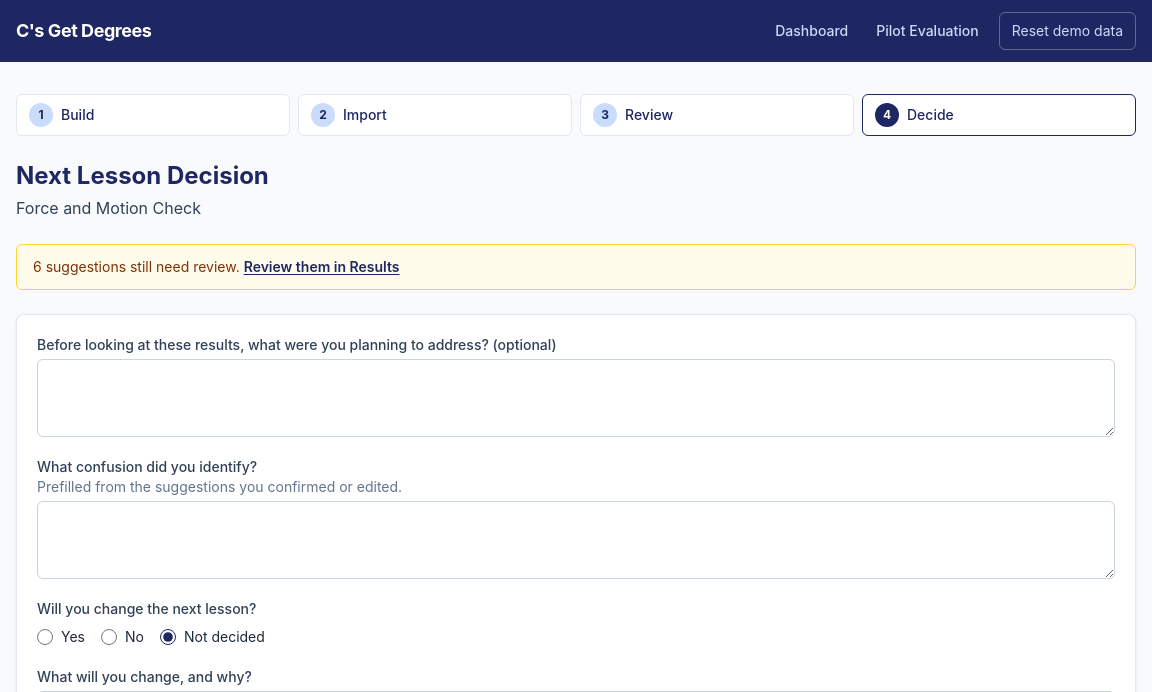
choosing Yes with blank justification shows the justification hint and "not counted" status
Click the radio button labelled "Yes". click: (45, 637)
box: [37,629,53,645]
(page scrolled)
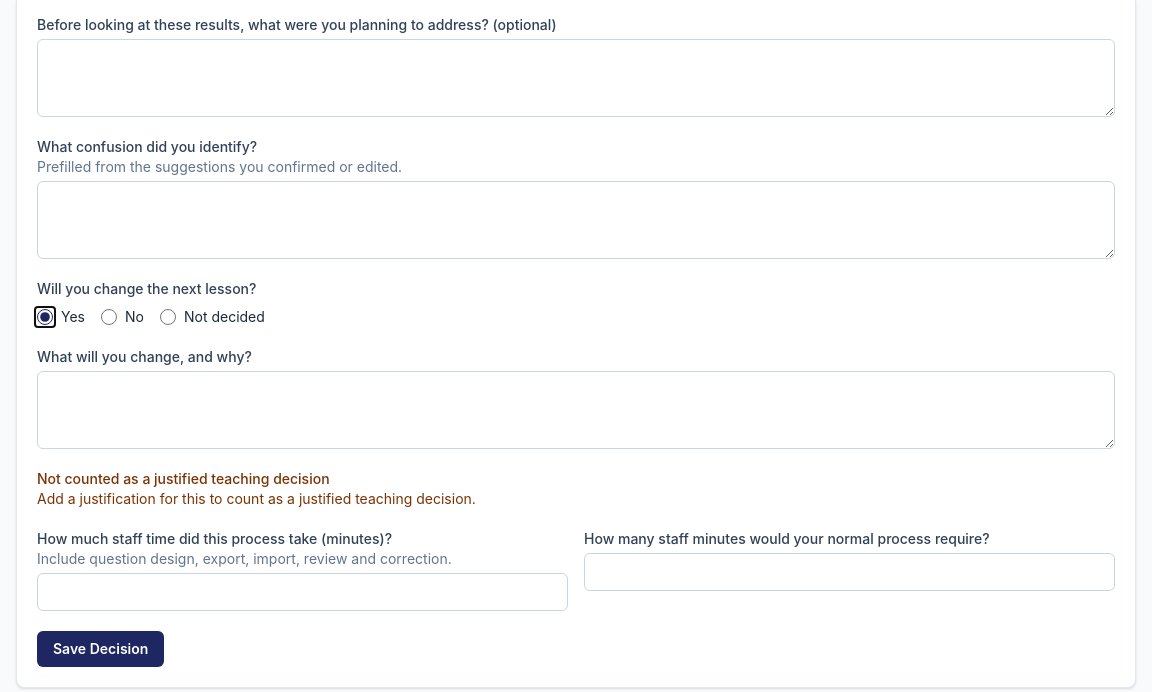
Expected: the text "Add a justification for this to count as a justified teaching decision." is shown, [37,490,476,507]
Expected: the text "Not counted as a justified teaching decision" is shown, [37,470,330,487]
